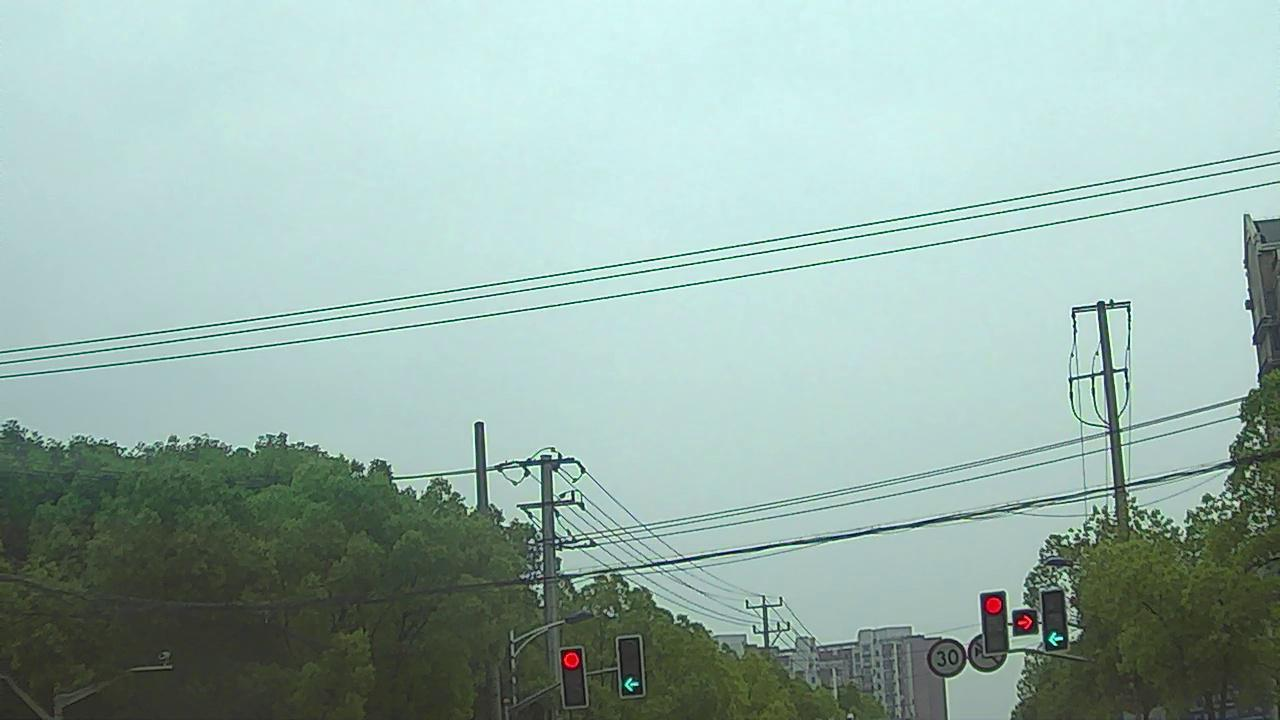traffic_light: (979, 588, 1010, 652), (1040, 591, 1068, 650), (617, 637, 645, 695), (559, 648, 586, 706)
